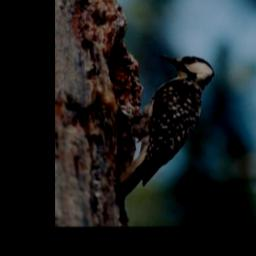Woodpecker: (109, 51, 226, 208)
